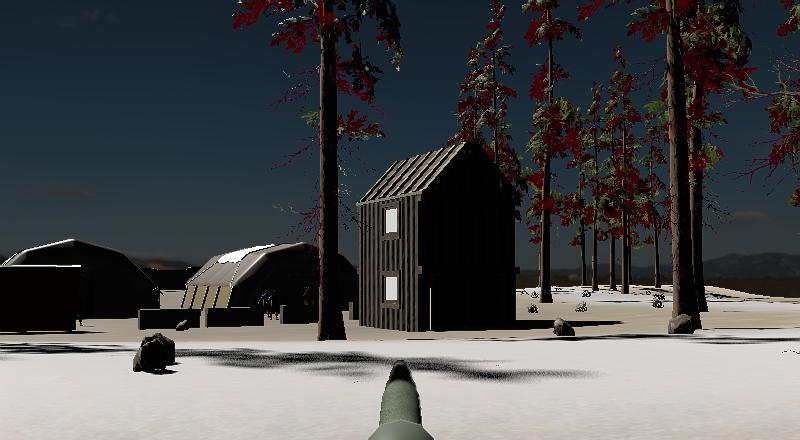House: (356, 139, 521, 331)
